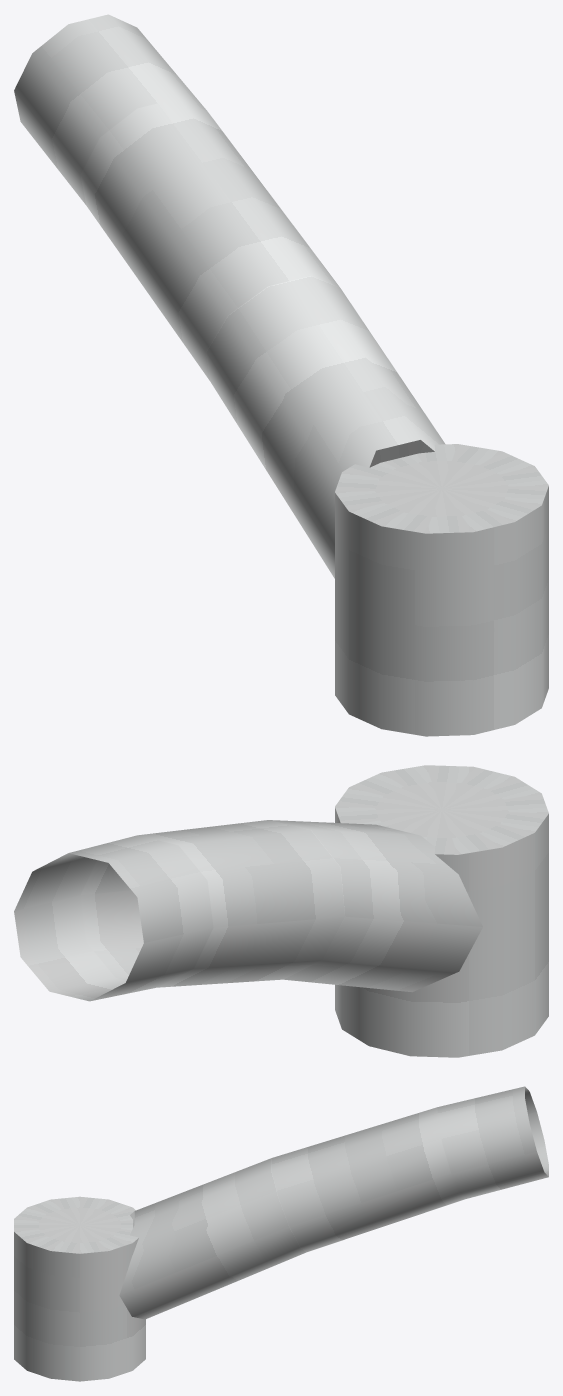
File: nycsignalarm_regular4_c1_pedestal.obj
3 views of the same model, one above another, from view 1: azimuth 30°, elevation 25°; view 2: azimuth 150°, elevation 25°; view 3: azimuth 270°, elevation 25° (orthographic). The views are drawn at different scales.
Parts seen in each view (by area): view 1: nycsignalarm_regular4_c1_pedestal; view 2: nycsignalarm_regular4_c1_pedestal; view 3: nycsignalarm_regular4_c1_pedestal.
Boxes of the visible parts, left/top/right/bottom form: nycsignalarm_regular4_c1_pedestal: left=14, top=14, right=548, bottom=736; nycsignalarm_regular4_c1_pedestal: left=14, top=765, right=548, bottom=1057; nycsignalarm_regular4_c1_pedestal: left=14, top=1086, right=548, bottom=1381.
Bounding box in the file's own units: 0.4438 × 0.9431 × 1.76.
